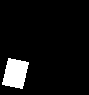parkingspot: (2, 58, 28, 88)
